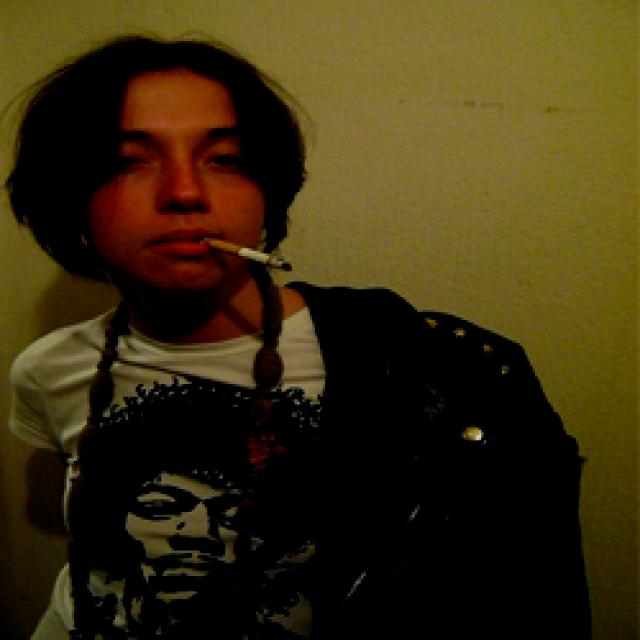Smooking: (216, 225, 302, 279)
